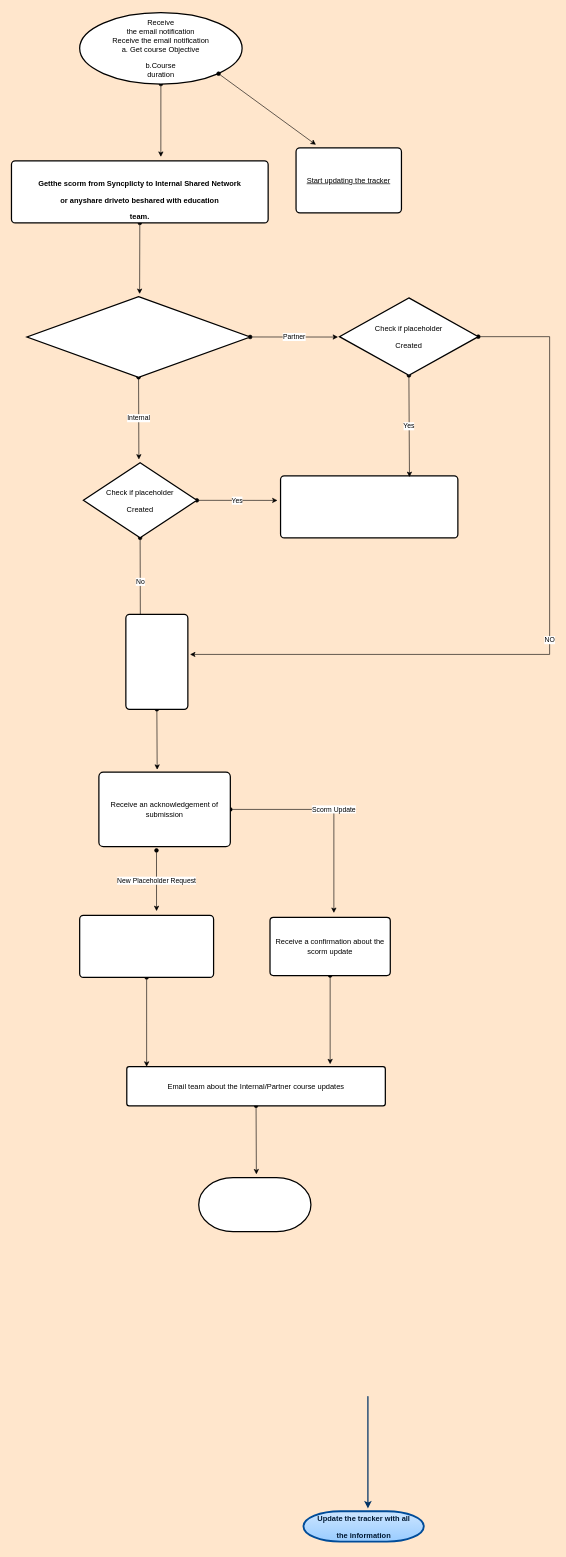
This 566x1557 diagram has some shape labels left out. Here are the shapes that lost their labels. From the top down, the centre of each, then its label:
At pixel 138 337: "Determine if the course is internal or Partner".
At pixel 369 506: "Submit SABA 5,5 request to replace the content only through the online portal".
At pixel 156 661: "Submit SABA 5.5 request with attached SABA data entry Internal/Partner form".
At pixel 146 946: "Education service sends web search link for internal and deeplink for partner".
At pixel 254 1204: "Finish updating the tracker for the particular course/courses".
